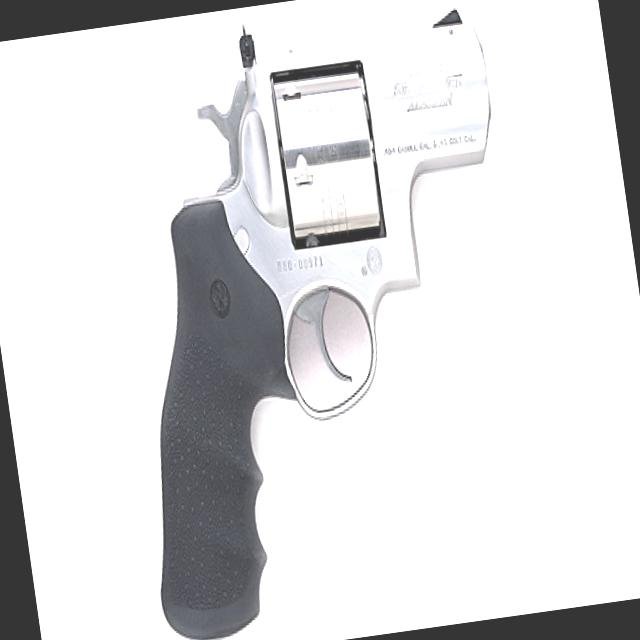handgun: (73, 0, 561, 639)
